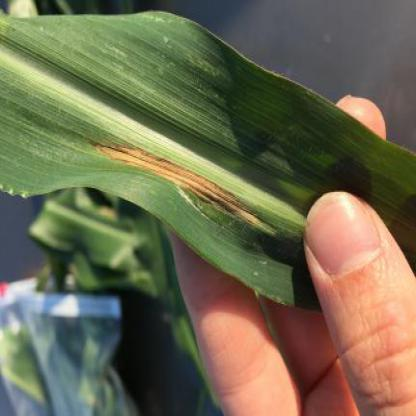Corn leaf blight: (3, 14, 302, 287)
